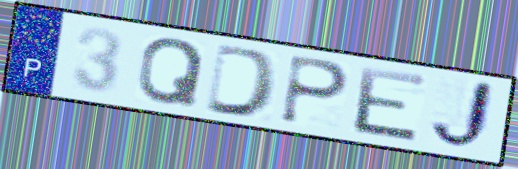3: (71, 26, 128, 96)
D: (202, 41, 281, 121)
E: (351, 63, 430, 145)
J: (426, 77, 499, 154)
P: (277, 53, 352, 128)
Q: (134, 35, 208, 110)
